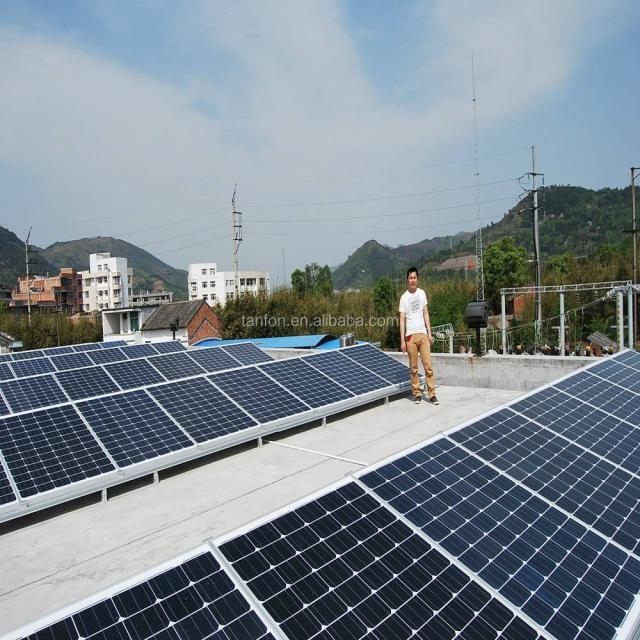clean-solar-panel: (24, 350, 640, 640)
